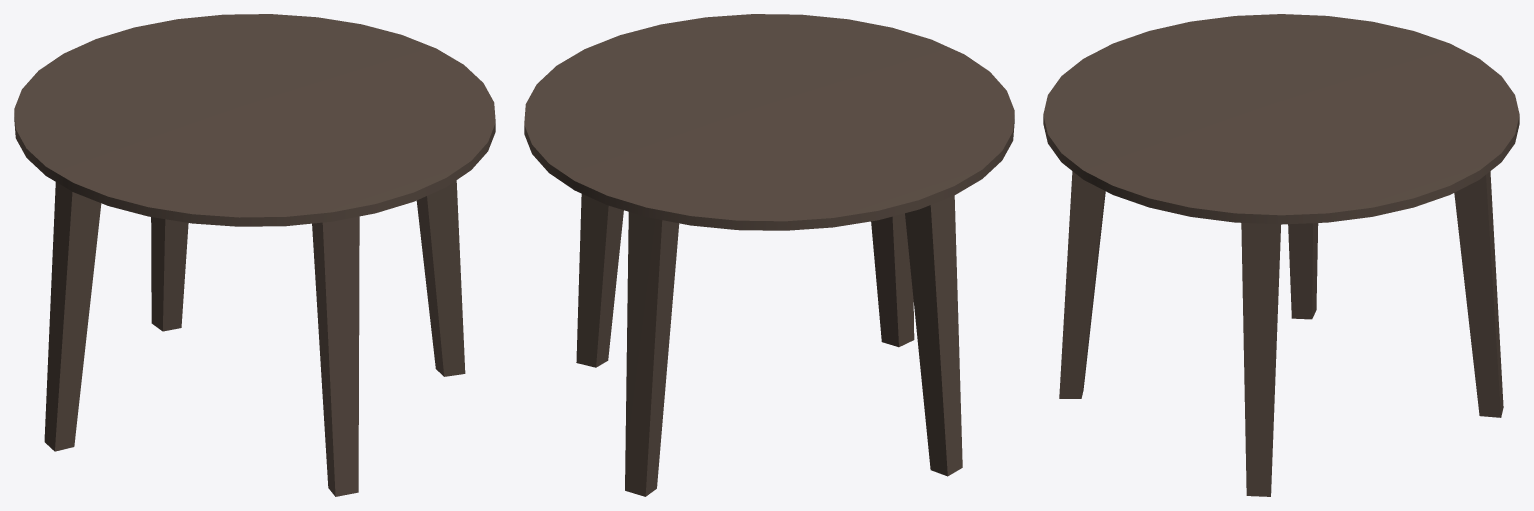
Rendered from TableRonde_14.fbx.
3 renders of one model, left to right at view 1: azimuth 30°, elevation 25°; view 2: azimuth 150°, elevation 25°; view 3: azimuth 270°, elevation 25°, orthographic. The views are drawn at different scales.
Parts seen in each view (by area): view 1: pCylinder11; view 2: pCylinder11; view 3: pCylinder11.
Part boxes in pixels (left/top/right/bottom): pCylinder11: left=14, top=14, right=495, bottom=496; pCylinder11: left=524, top=14, right=1014, bottom=496; pCylinder11: left=1043, top=14, right=1519, bottom=496.
Bounding box in the file's own units: 45.4 × 30.65 × 45.4.
